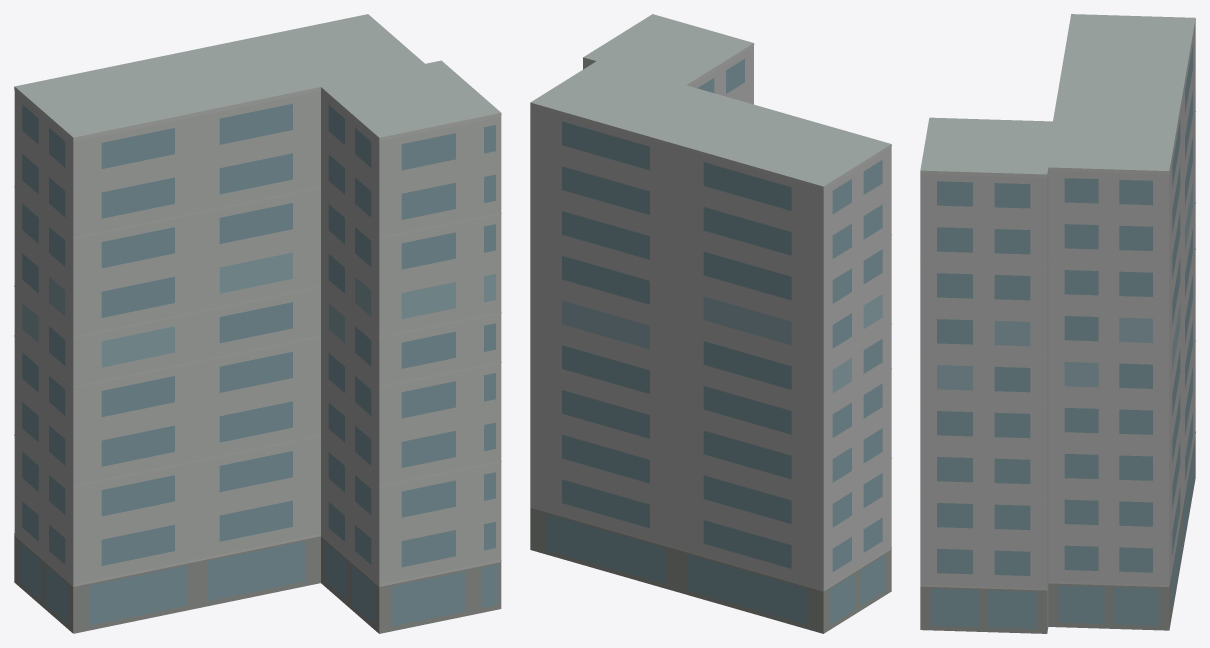
Rendered from residential-25af75fd-696a-448f-ad08-fb30b6739018.glb.
3 views of the same model, side by side, from view 1: azimuth 30°, elevation 25°; view 2: azimuth 150°, elevation 25°; view 3: azimuth 270°, elevation 25° (orthographic). The views are drawn at different scales.
Visible parts, largest first — view 1: residential-25af75fd-696a-448f-ad08-fb30b6739018.tmp; view 2: residential-25af75fd-696a-448f-ad08-fb30b6739018.tmp; view 3: residential-25af75fd-696a-448f-ad08-fb30b6739018.tmp.
Boxes of the visible parts, <box> form: residential-25af75fd-696a-448f-ad08-fb30b6739018.tmp: <box>14,14,501,633</box>; residential-25af75fd-696a-448f-ad08-fb30b6739018.tmp: <box>530,14,891,633</box>; residential-25af75fd-696a-448f-ad08-fb30b6739018.tmp: <box>920,14,1195,633</box>.
Size of the model in its own units: 22.5 by 30 by 16.33.
